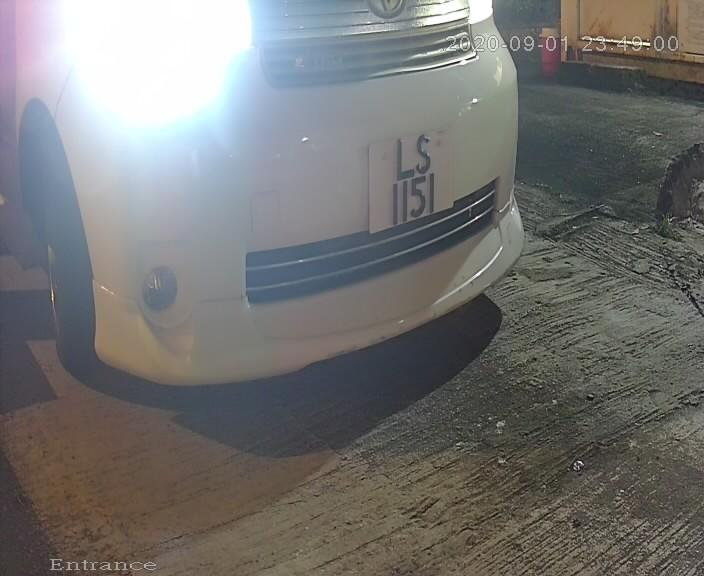License Plate: (368, 119, 469, 253)
